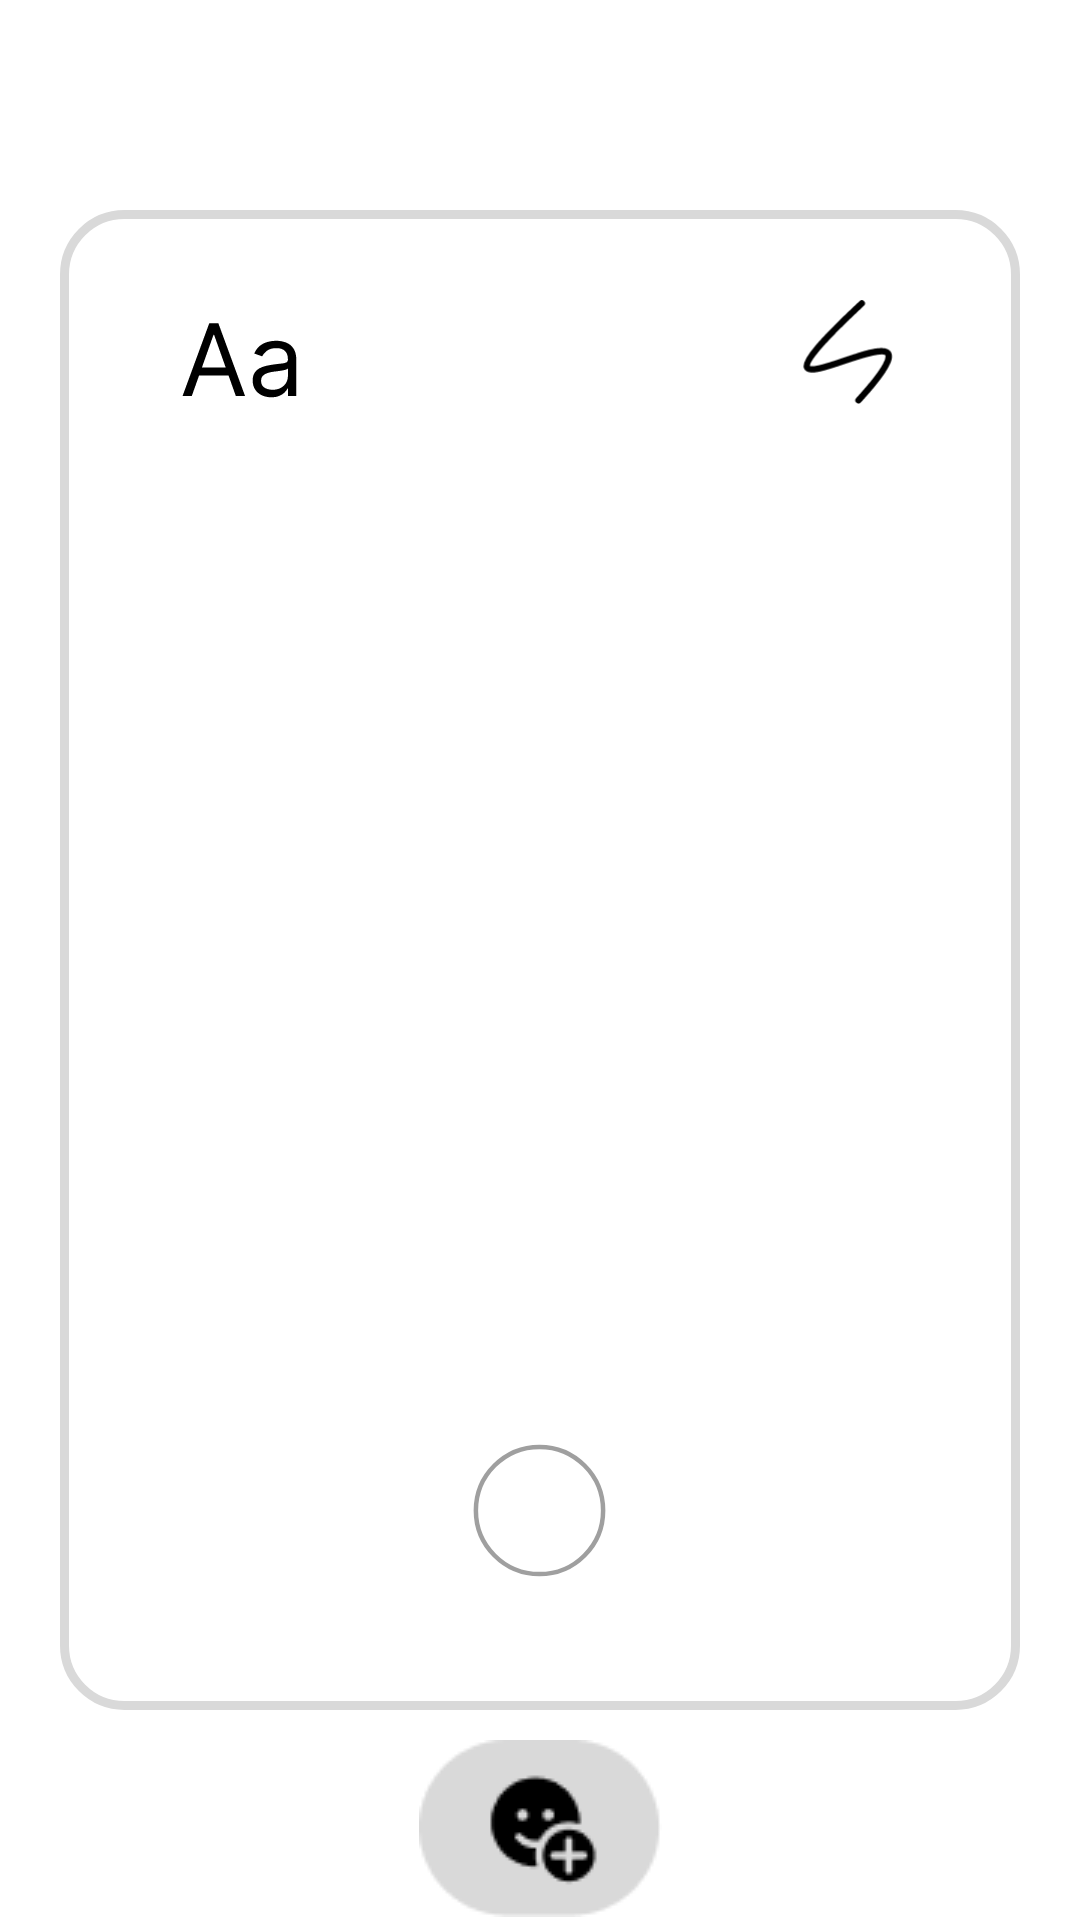

Screen size 1080x1920. Icon name, then its center in pixels as [x,y]:
emoji: [539,1827]
